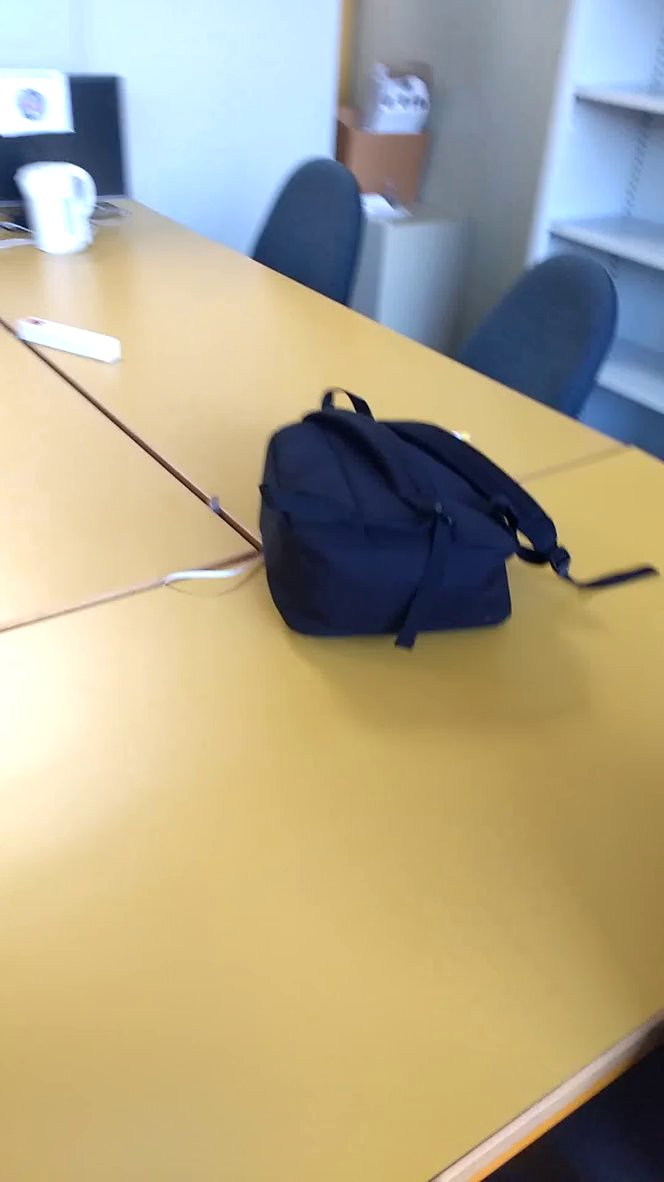bag: (237, 367, 661, 680)
chair: (441, 239, 625, 458), (230, 144, 379, 331)
